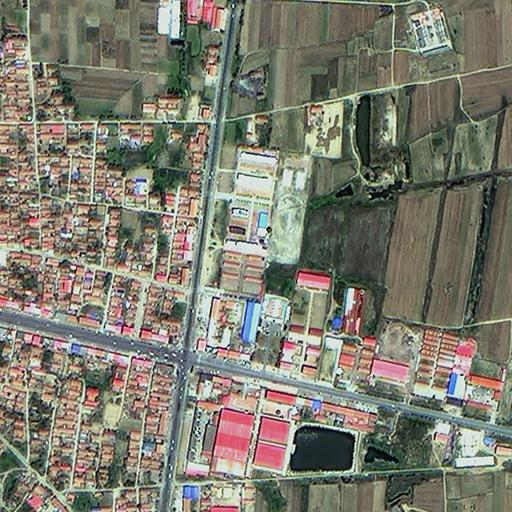school: (214, 148, 310, 300)
